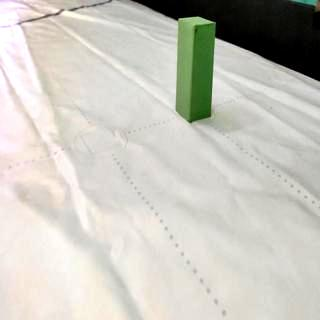greenbox: (176, 17, 217, 123)
